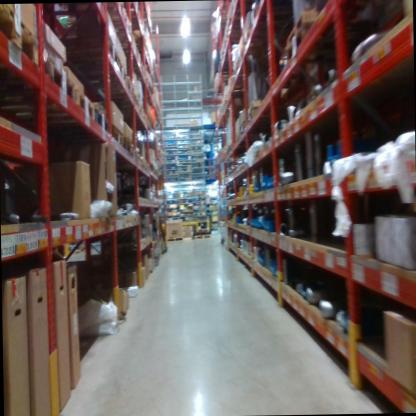pallet: (0, 52, 75, 103), (281, 6, 349, 56), (7, 88, 96, 126), (282, 23, 354, 68), (33, 100, 109, 138), (0, 4, 44, 69), (57, 38, 123, 77), (95, 115, 125, 153), (245, 96, 285, 112), (247, 111, 287, 127), (191, 233, 211, 242), (164, 237, 184, 245)
pallet_truck: (147, 213, 164, 262)
